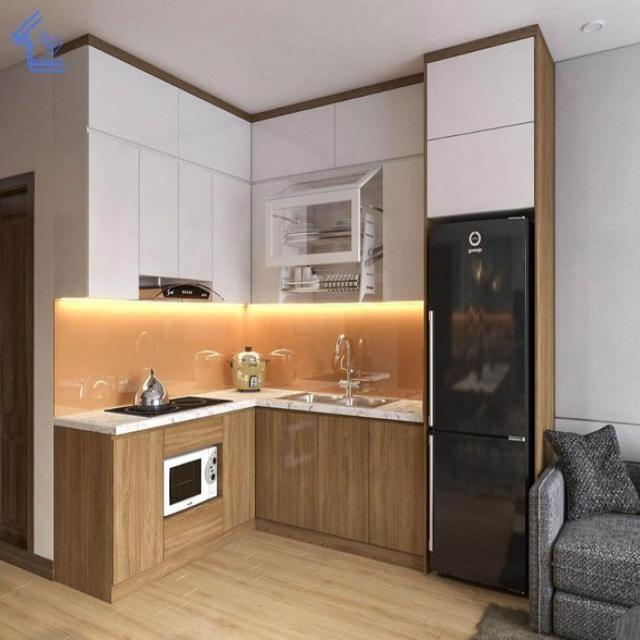obstacle: (90, 50, 424, 304), (112, 411, 427, 570), (425, 213, 534, 596), (526, 455, 640, 639)
